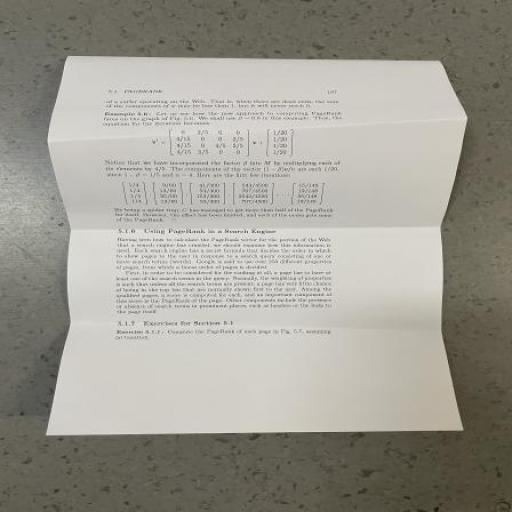paper: (21, 18, 493, 472)
